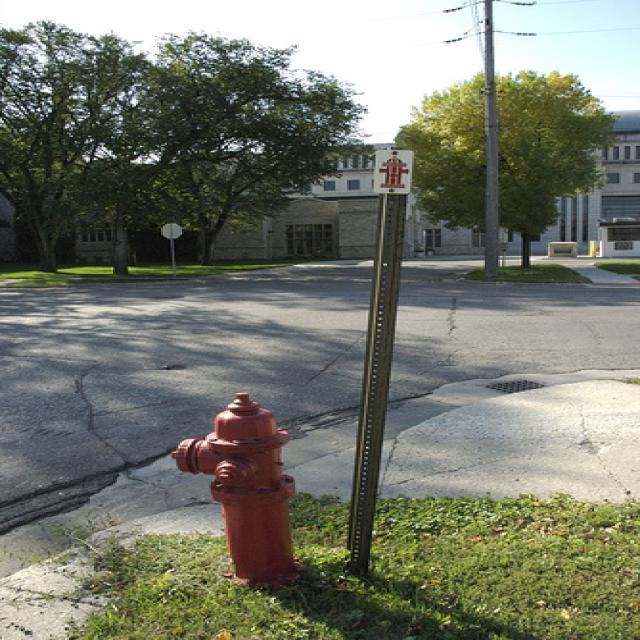fire_hydrant: (167, 392, 301, 588)
